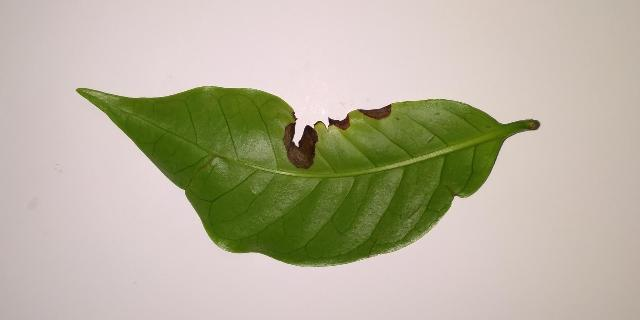rust: (283, 109, 324, 169), (357, 103, 393, 120), (324, 112, 351, 130)
